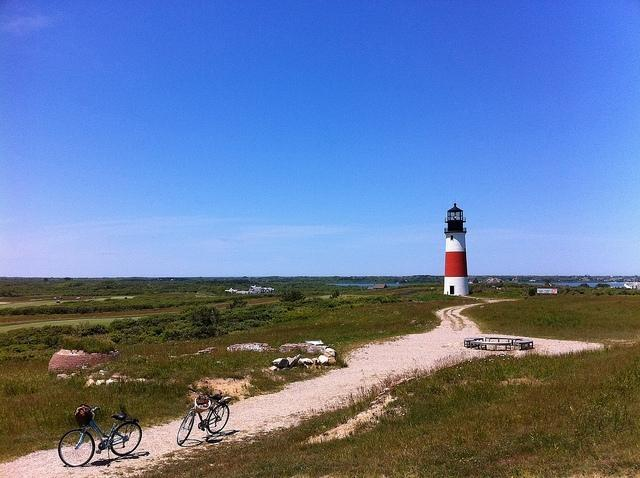bicycle: (59, 404, 144, 467), (178, 388, 232, 446)
